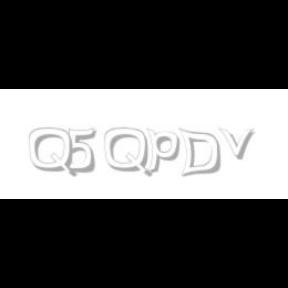5: (66, 128, 96, 174)
D: (178, 128, 220, 178)
Q: (29, 128, 75, 178), (104, 128, 150, 178)
p: (146, 128, 183, 174)
v: (218, 128, 258, 160)
